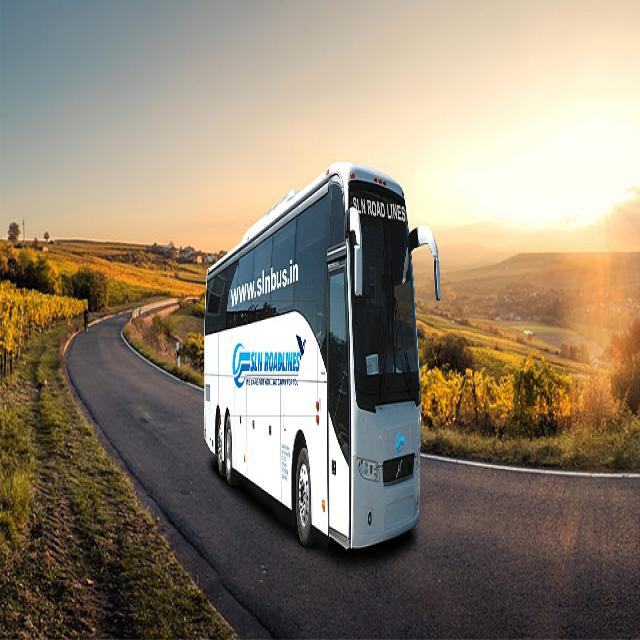BUS: (163, 95, 449, 578)
